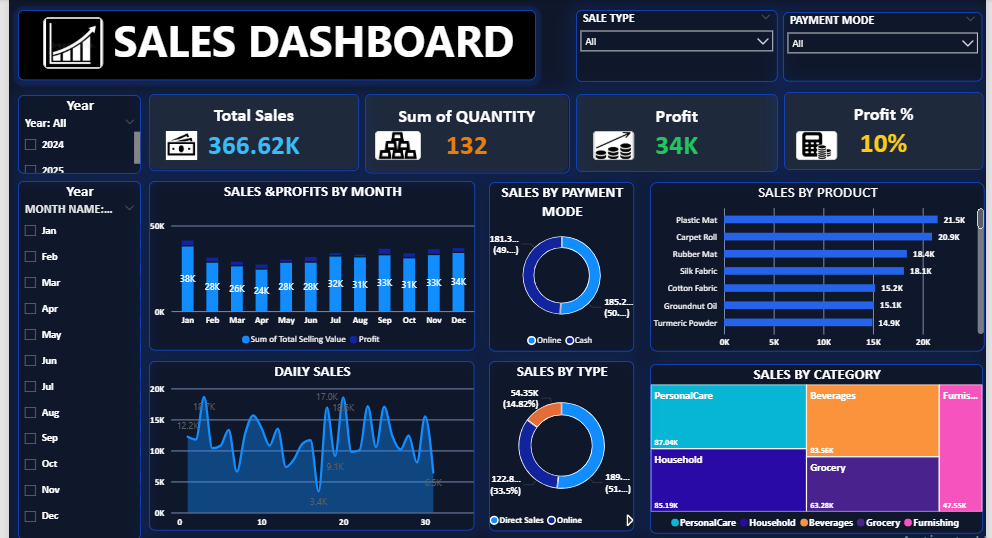

Layout of this report page (visuals, bound fields, positions):
{"tool":"powerbi","page":{"name":"Page 1","canvas":[1280,720],"ordinal":0},"visuals":[{"type":"textbox","box":[11.5,14.4,678.2,92.2],"z":0},{"type":"image","box":[44.4,23.4,79.4,67.7],"z":1000},{"type":"slicer","title":"Year","fields":{"Values":["InputData.Year"]},"box":[11.4,125.7,161.4,102.9],"z":2000},{"type":"slicer","title":"Year","fields":{"Values":["InputData.Month Name"]},"box":[11.7,238.5,161,469.8],"z":3000},{"type":"slicer","title":"Year","fields":{"Values":["InputData.SALE TYPE"]},"box":[741.6,14.4,263.5,93.6],"z":4000},{"type":"slicer","title":"Year","fields":{"Values":["InputData.PAYMENT MODE"]},"box":[1013.8,17.3,260.6,90.7],"z":5000},{"type":"cardVisual","fields":{"Data":["InputData.Profit"]},"box":[742,124.4,264,102.4],"z":6000},{"type":"cardVisual","fields":{"Data":["Sum(InputData.QUANTITY)"]},"box":[466,124,267.8,103.9],"z":7000},{"type":"cardVisual","fields":{"Data":["InputData.Profit %"]},"box":[1014.1,121.5,261,102.4],"z":8000},{"type":"cardVisual","fields":{"Data":["Sum(InputData.Total Selling Value)"]},"box":[182.9,124.4,275.1,101],"z":9000},{"type":"image","box":[478.5,172.7,60,38],"z":10000},{"type":"image","box":[1030.2,172.7,54.1,38],"z":11000},{"type":"image","box":[763.9,172.7,54.1,38],"z":11500},{"type":"image","box":[196.1,172.7,58.5,38],"z":12000},{"type":"columnChart","title":"SALES &PROFITS BY MONTH","fields":{"Category":["InputData.Month Name"],"Y":["Sum(InputData.Total Selling Value)","InputData.Profit"]},"box":[182.9,238.5,427.3,222.4],"z":14000},{"type":"areaChart","title":"DAILY SALES ","fields":{"Category":["InputData.Day"],"Y":["Sum(InputData.Total Selling Value)"]},"box":[182.9,474.1,426,222.4],"z":15000},{"type":"clusteredBarChart","title":"SALES BY PRODUCT ","fields":{"Category":["InputData.MasterData.PRODUCT"],"Y":["Sum(InputData.Total Selling Value)"]},"box":[839,240,438,222],"z":16000},{"type":"treemap","title":"SALES BY CATEGORY","fields":{"Group":["InputData.MasterData.CATEGORY"],"Values":["Sum(InputData.Total Selling Value)"]},"box":[839.7,477.3,436,222.1],"z":17000},{"type":"donutChart","title":"SALES BY TYPE","fields":{"Series":["InputData.SALE TYPE"],"Y":["Sum(InputData.Total Selling Value)"]},"box":[627.8,473.8,190.1,223.2],"z":18000},{"type":"donutChart","title":"SALES BY PAYMENT MODE","fields":{"Category":["InputData.PAYMENT MODE"],"Y":["Sum(InputData.Total Selling Value)"]},"box":[627.8,240,190.2,222.4],"z":19000}]}

Visuals, with their boxes on the page's 1280x720 design canvas (x1, y1, x2, y2). These are canvas units, not pixel positions in the 992x538 screenshot, which may show the page scaled, cropped or inside an application window:
textbox: BBox(12, 14, 690, 107)
image: BBox(44, 23, 124, 91)
"Year" slicer: BBox(11, 126, 173, 229)
"Year" slicer: BBox(12, 238, 173, 708)
"Year" slicer: BBox(742, 14, 1005, 108)
"Year" slicer: BBox(1014, 17, 1274, 108)
cardVisual - InputData.Profit: BBox(742, 124, 1006, 227)
cardVisual - Sum(InputData.QUANTITY): BBox(466, 124, 734, 228)
cardVisual - InputData.Profit %: BBox(1014, 122, 1275, 224)
cardVisual - Sum(InputData.Total Selling Value): BBox(183, 124, 458, 225)
image: BBox(478, 173, 538, 211)
image: BBox(1030, 173, 1084, 211)
image: BBox(764, 173, 818, 211)
image: BBox(196, 173, 255, 211)
"SALES &PROFITS BY MONTH" columnChart: BBox(183, 238, 610, 461)
"DAILY SALES " areaChart: BBox(183, 474, 609, 696)
"SALES BY PRODUCT " clusteredBarChart: BBox(839, 240, 1277, 462)
"SALES BY CATEGORY" treemap: BBox(840, 477, 1276, 699)
"SALES BY TYPE" donutChart: BBox(628, 474, 818, 697)
"SALES BY PAYMENT MODE" donutChart: BBox(628, 240, 818, 462)
